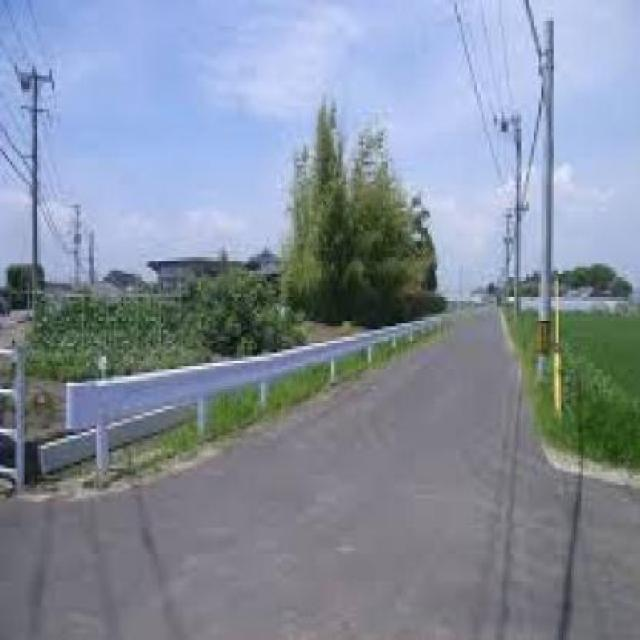Guard rail: (63, 306, 440, 485)
